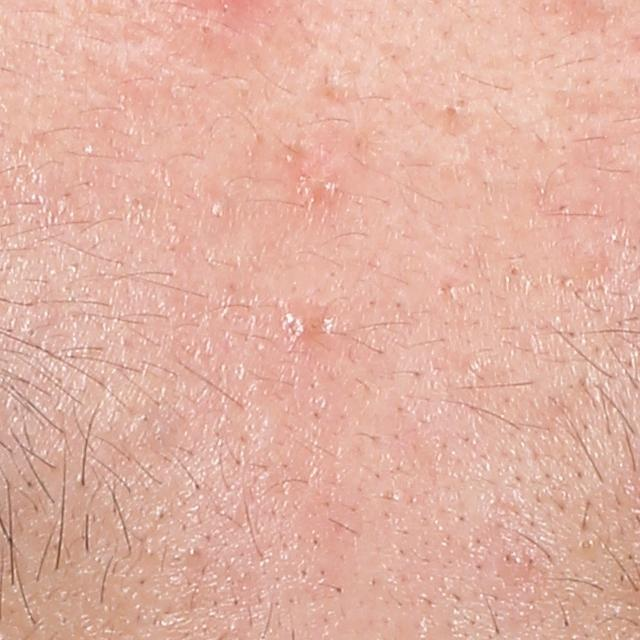comedo: (575, 535, 598, 551), (442, 101, 461, 120), (508, 263, 521, 278)
